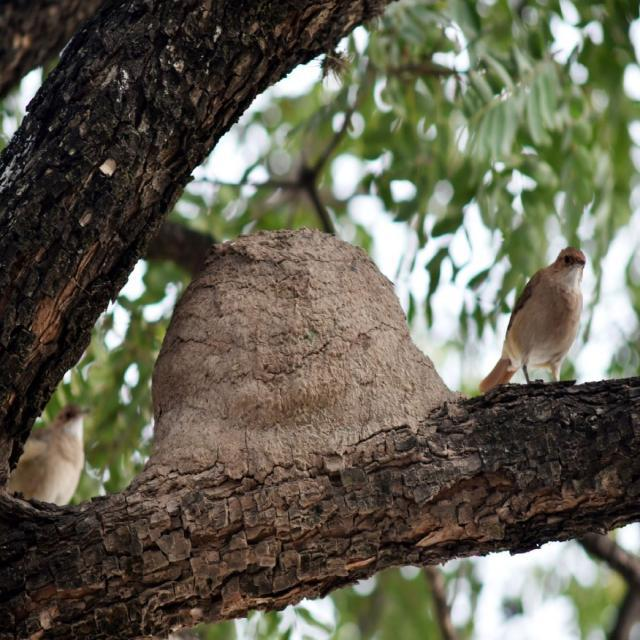bird: (472, 219, 598, 418)
